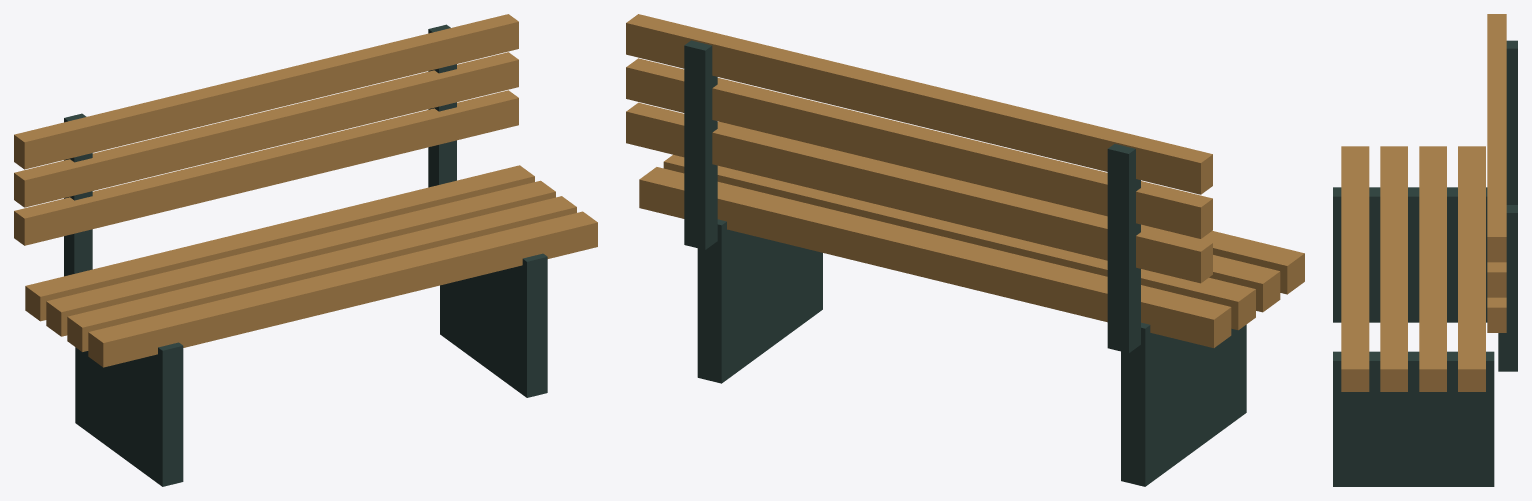
File: Bench.obj
The picture shows the model from 3 angles, left to right: view 1: azimuth 30°, elevation 25°; view 2: azimuth 150°, elevation 25°; view 3: azimuth 270°, elevation 25°; orthographic projection. The views are drawn at different scales.
Parts seen in each view (by area): view 1: Bench; view 2: Bench; view 3: Bench.
Part boxes in pixels (bbox=[...]): Bench: bbox=[14, 14, 597, 486]; Bench: bbox=[626, 14, 1304, 486]; Bench: bbox=[1333, 14, 1517, 486].
Size of the model in its own units: 1.9 by 1.09 by 0.665.
